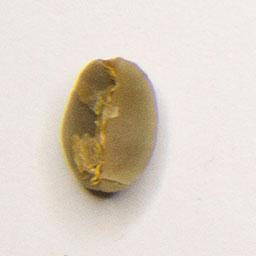premium: (56, 51, 164, 199)
